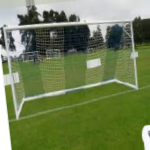goals: (1, 18, 142, 121)
